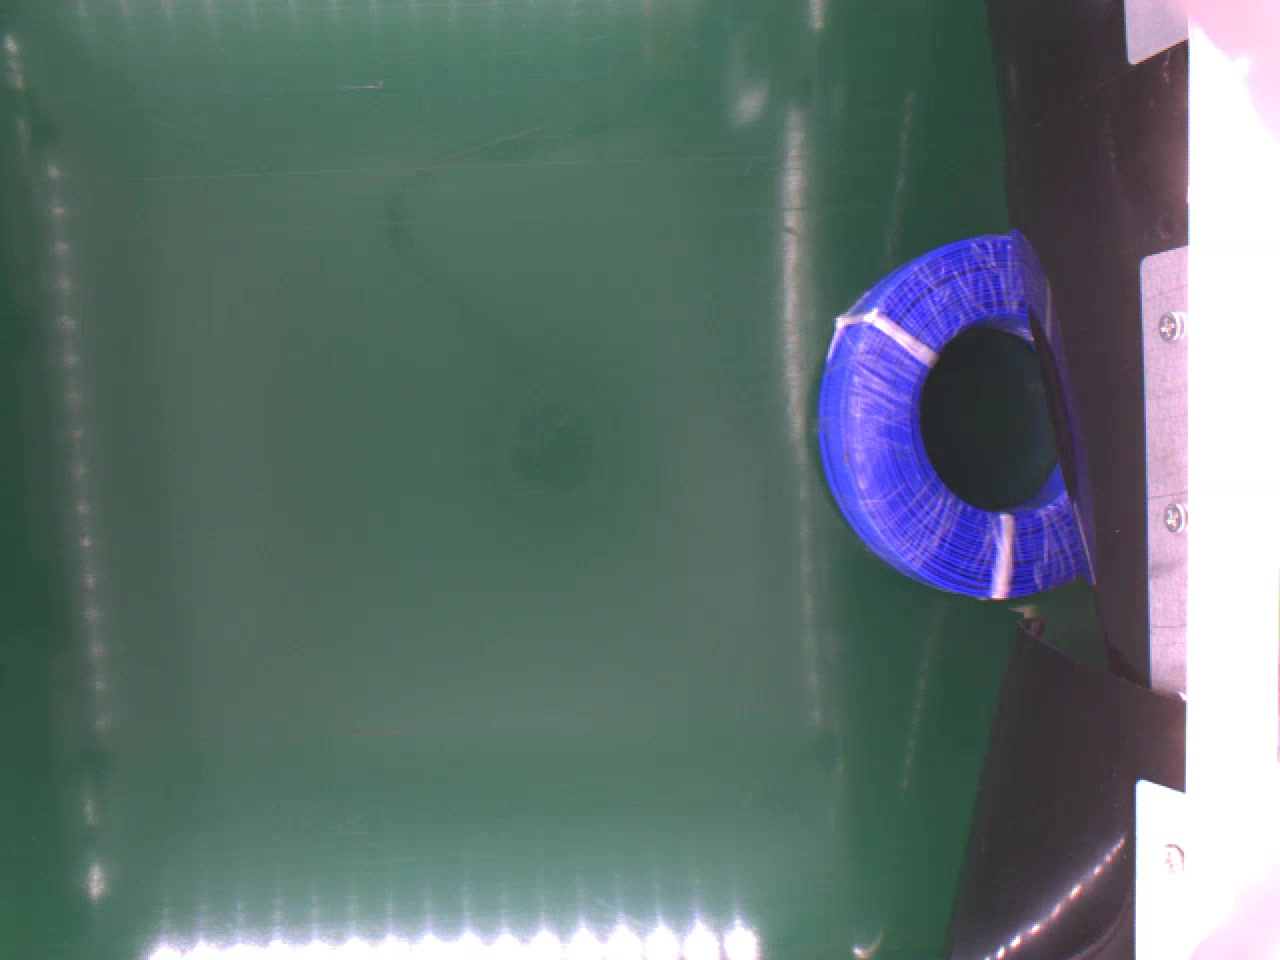blue: (812, 233, 1090, 605)
